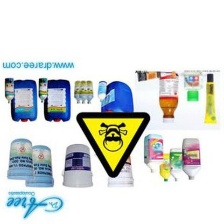insecticide: (61, 140, 98, 192), (24, 142, 59, 190), (104, 146, 137, 193), (98, 79, 134, 120), (8, 77, 39, 124), (43, 74, 71, 124), (6, 137, 36, 183), (158, 71, 181, 125), (180, 136, 203, 181), (142, 132, 166, 175), (203, 71, 219, 129), (168, 147, 188, 185), (182, 70, 203, 103), (135, 67, 176, 82), (157, 149, 175, 183), (37, 75, 49, 103), (4, 76, 14, 105), (78, 78, 89, 104), (84, 79, 95, 104), (97, 80, 108, 102), (73, 78, 82, 104)
